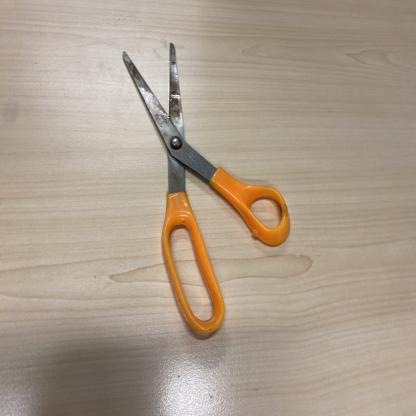scissors: (122, 42, 292, 341)
